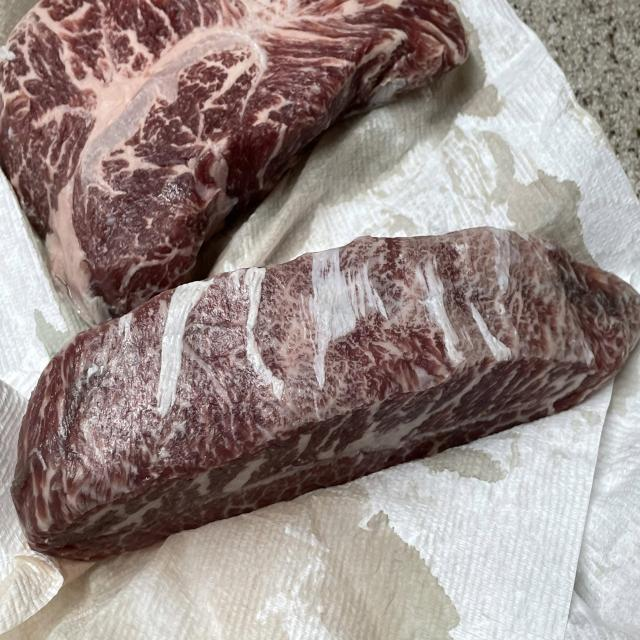beef: (90, 318, 504, 450), (24, 13, 234, 227)
